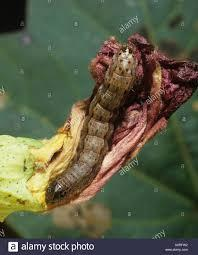fallarmy_worm: (45, 30, 139, 206)
